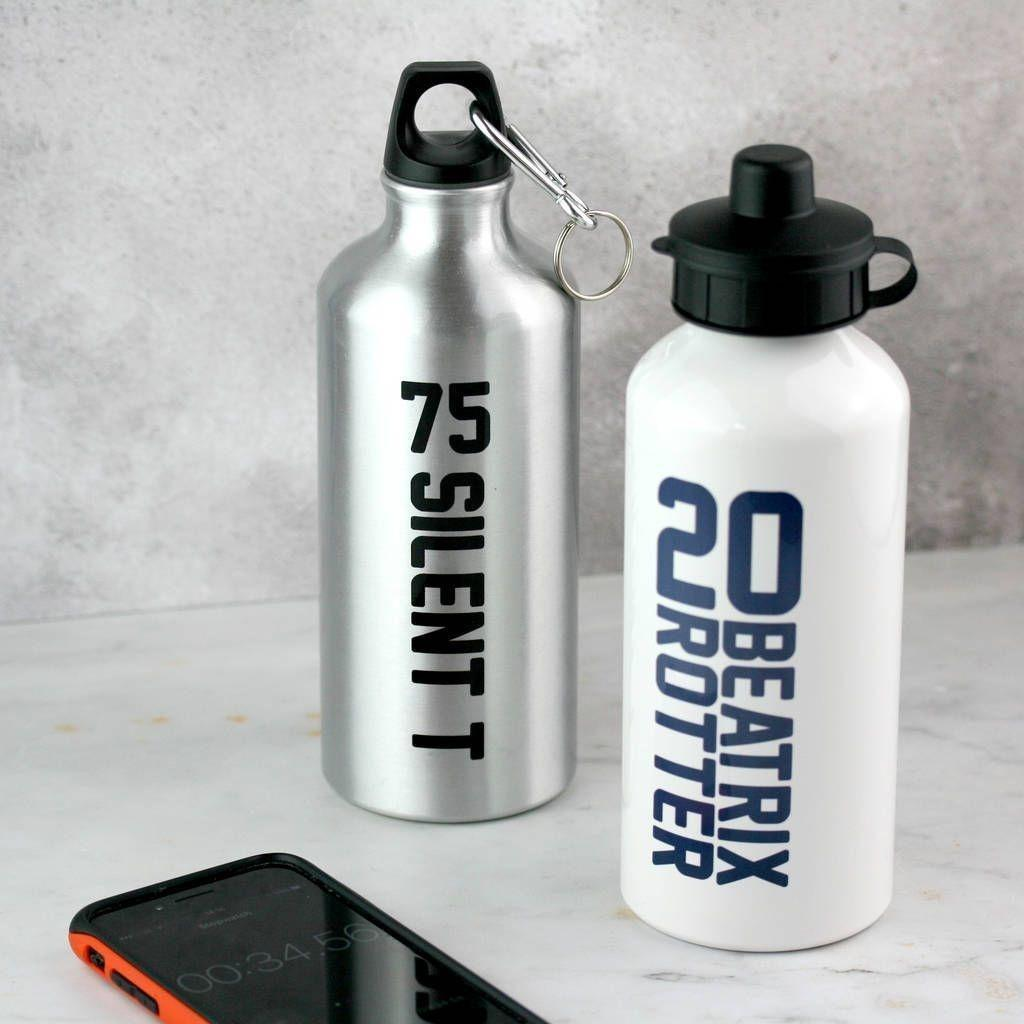gym bottle: (616, 146, 917, 955), (313, 56, 587, 834)
